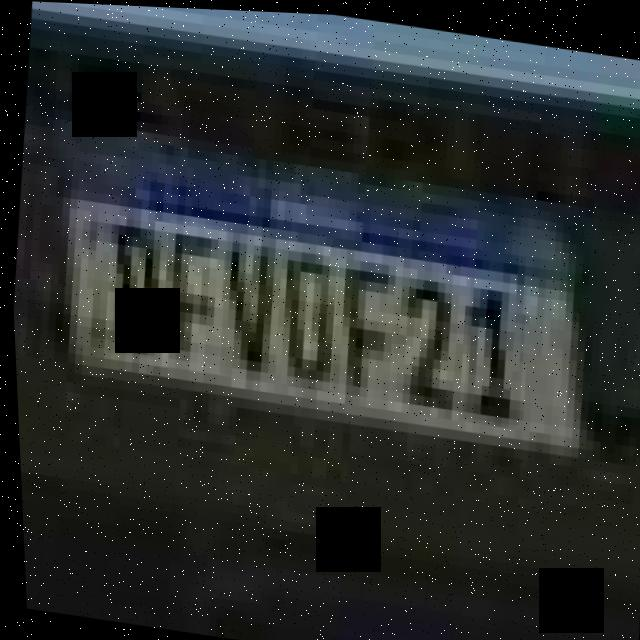0: (271, 237, 344, 389)
1: (453, 272, 530, 422)
F: (152, 217, 231, 373), (328, 249, 402, 401)
O: (98, 215, 170, 360)
V: (209, 226, 281, 378)
